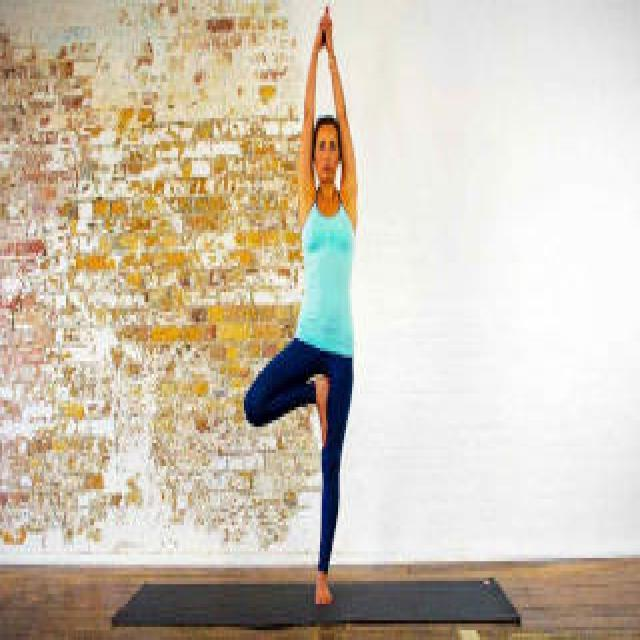yoga-pose tree: (242, 4, 366, 602)
